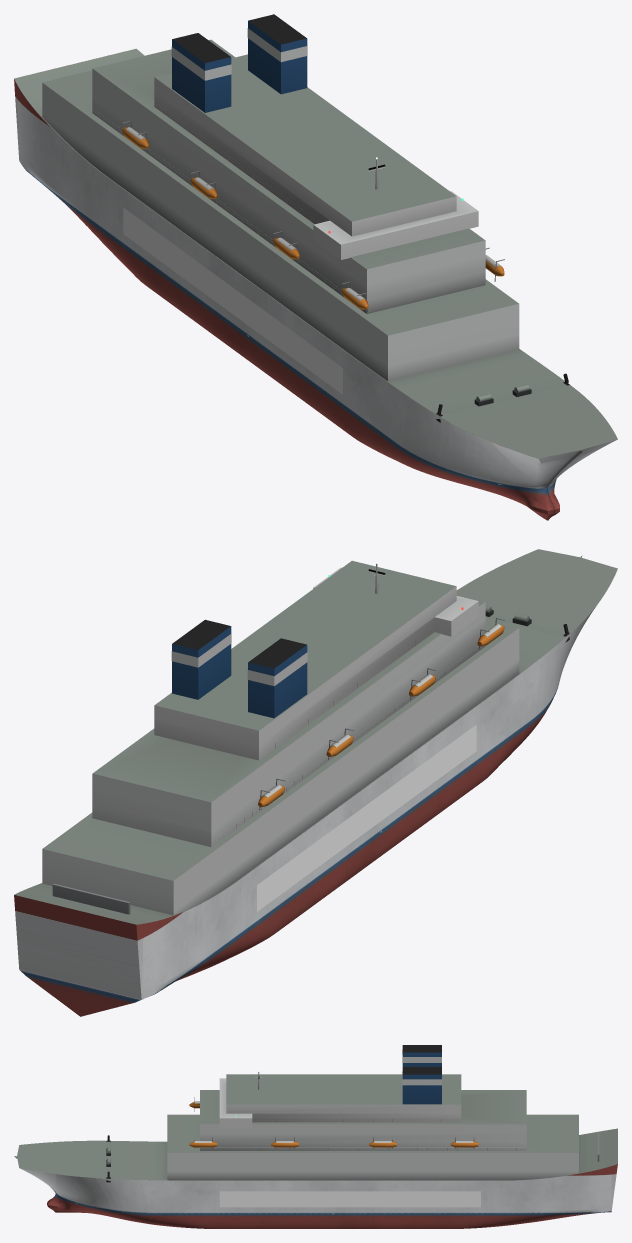
The model's file is faehre.glb.
3 renders of one model, top to bottom at view 1: azimuth 30°, elevation 25°; view 2: azimuth 150°, elevation 25°; view 3: azimuth 270°, elevation 25°, orthographic. The views are drawn at different scales.
Parts seen in each view (by area): view 1: trim, rumpf, name-1, rund; view 2: trim, rumpf, name-1, rund; view 3: trim, rumpf, name1, rund.
Part boxes in pixels (x1=…): trim: x1=14, y1=14, x2=617, y2=458; rumpf: x1=14, y1=79, x2=617, y2=520; name-1: x1=123, y1=207, x2=342, y2=394; rund: x1=93, y1=101, x2=568, y2=414; trim: x1=14, y1=549, x2=617, y2=924; rumpf: x1=14, y1=555, x2=595, y2=1016; name-1: x1=257, y1=724, x2=476, y2=911; rund: x1=211, y1=563, x2=568, y2=841; trim: x1=17, y1=1045, x2=617, y2=1182; rumpf: x1=14, y1=1140, x2=617, y2=1228; name1: x1=219, y1=1191, x2=480, y2=1207; rund: x1=106, y1=1071, x2=526, y2=1177.
Bounding box in the file's own units: 31 × 51.49 × 185.
7 materials, 1 textured.
